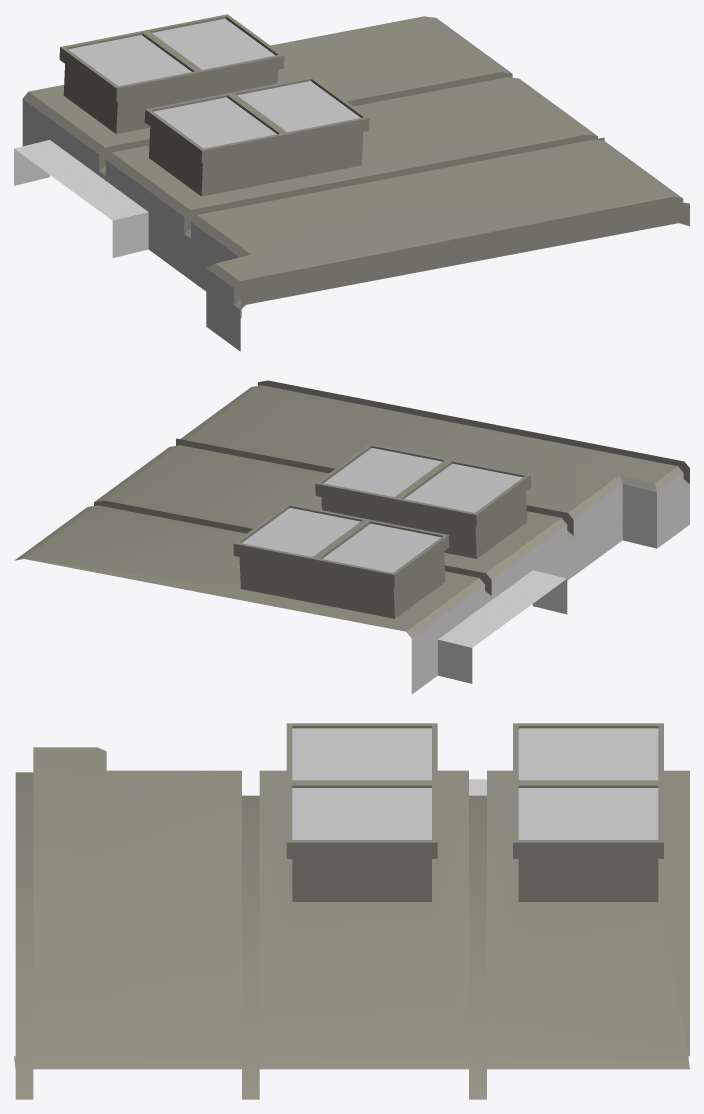
Rendered from SM_Hallway_Ceiling_3.fbx.
The picture shows the model from 3 angles, top to bottom: view 1: azimuth 30°, elevation 25°; view 2: azimuth 150°, elevation 25°; view 3: azimuth 270°, elevation 25°; orthographic projection. The views are drawn at different scales.
Parts seen in each view (by area): view 1: SM_Hallway_Ceiling_3; view 2: SM_Hallway_Ceiling_3; view 3: SM_Hallway_Ceiling_3.
Boxes of the visible parts, <box> form: SM_Hallway_Ceiling_3: <box>14,14,689,351</box>; SM_Hallway_Ceiling_3: <box>14,380,689,694</box>; SM_Hallway_Ceiling_3: <box>14,723,689,1099</box>.
Size of the model in its own units: 619 by 606 by 145.
3 materials, 2 textured.
